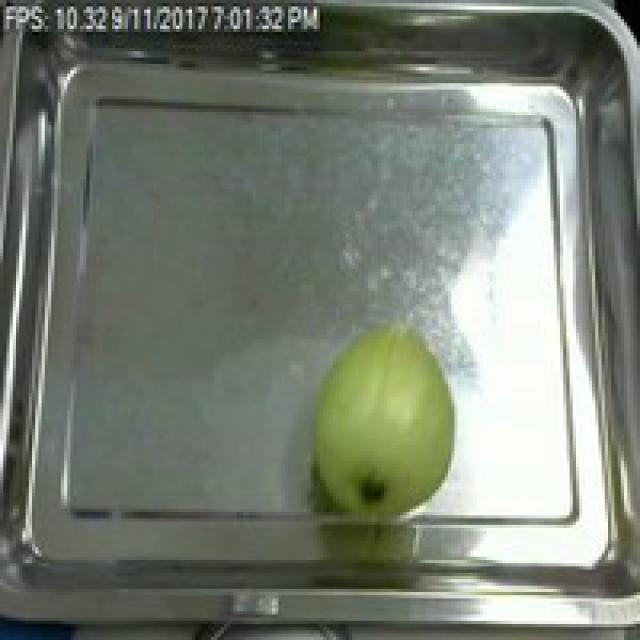Fruit: (294, 320, 468, 522)
